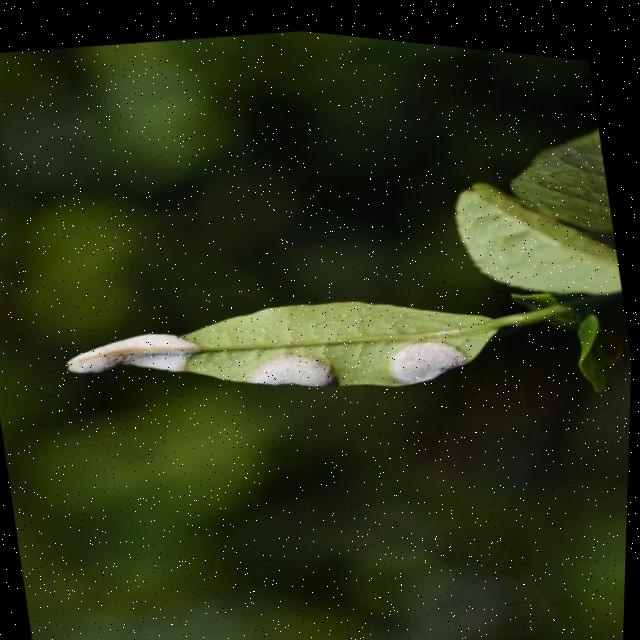Tea cake: (63, 306, 195, 395), (241, 327, 349, 393), (380, 314, 473, 376)
